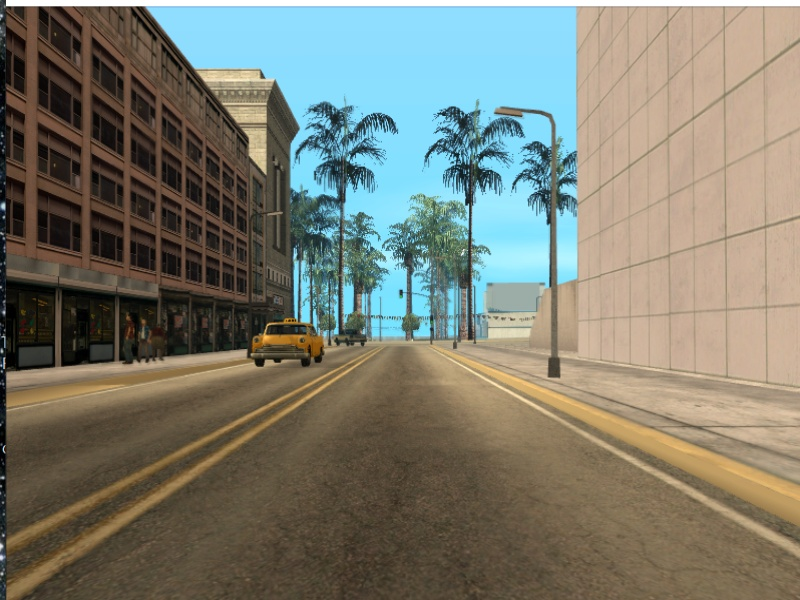person: (122, 312, 139, 365), (154, 317, 170, 359), (138, 313, 149, 361)
pole: (548, 117, 565, 383), (452, 248, 460, 349)
vehicle: (246, 319, 326, 367), (332, 327, 369, 349)
